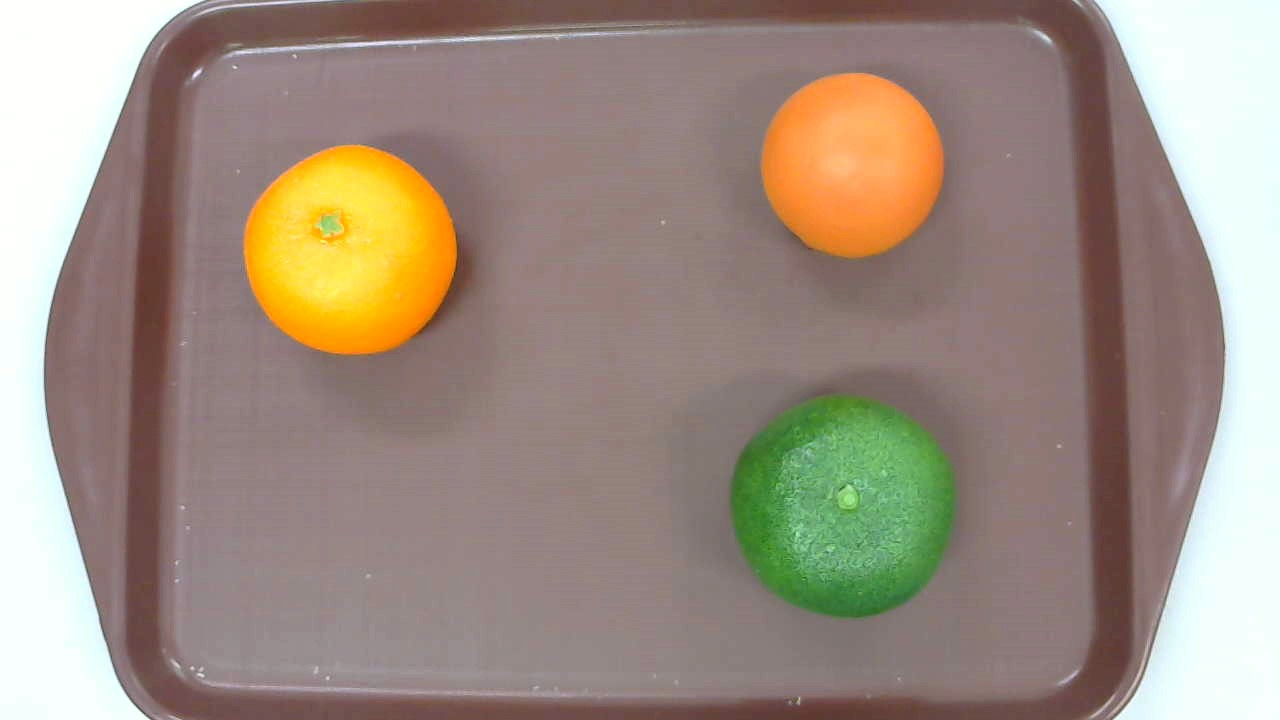bun: (759, 71, 945, 259)
green orange: (729, 393, 958, 619)
orange: (242, 144, 456, 356)
